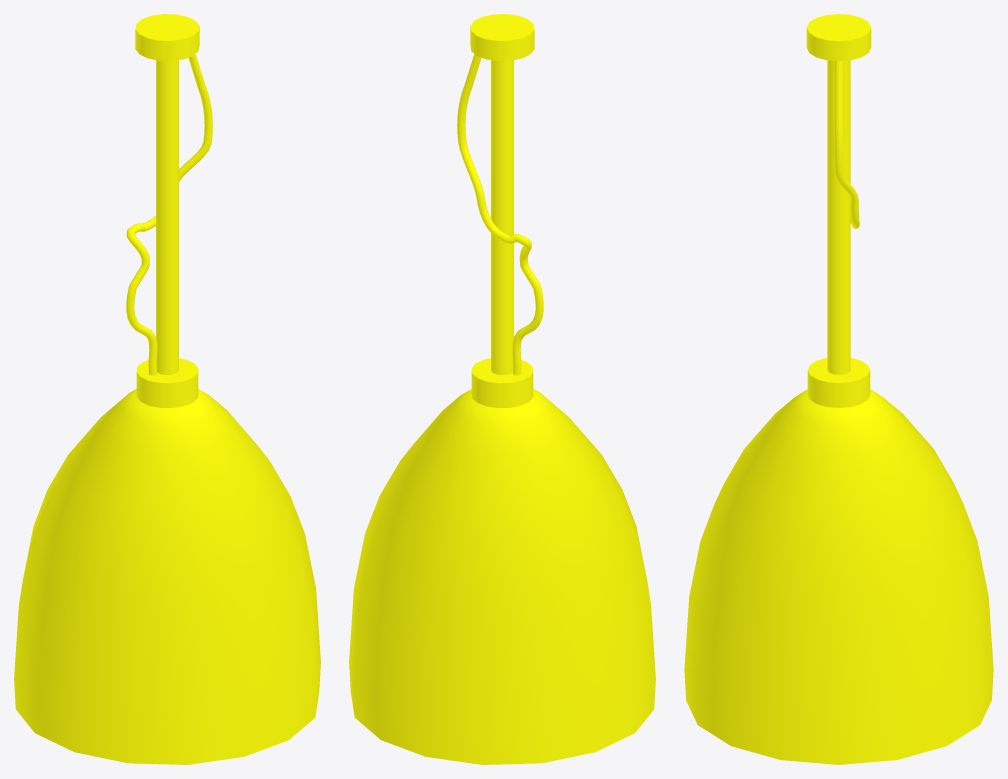
The model's file is SM_Lamp01.glb.
3 views of the same model, side by side, from view 1: azimuth 30°, elevation 25°; view 2: azimuth 150°, elevation 25°; view 3: azimuth 270°, elevation 25° (orthographic).
Parts seen in each view (by area): view 1: SM_Lamp01; view 2: SM_Lamp01; view 3: SM_Lamp01.
Part boxes in pixels (x1=…): SM_Lamp01: x1=14, y1=14, x2=320, y2=764; SM_Lamp01: x1=349, y1=14, x2=655, y2=764; SM_Lamp01: x1=684, y1=14, x2=993, y2=764.
Size of what is drawn, in the model's own units: 0.3868 by 0.9323 by 0.3868.
Materials: 1 (1 with a texture image).
